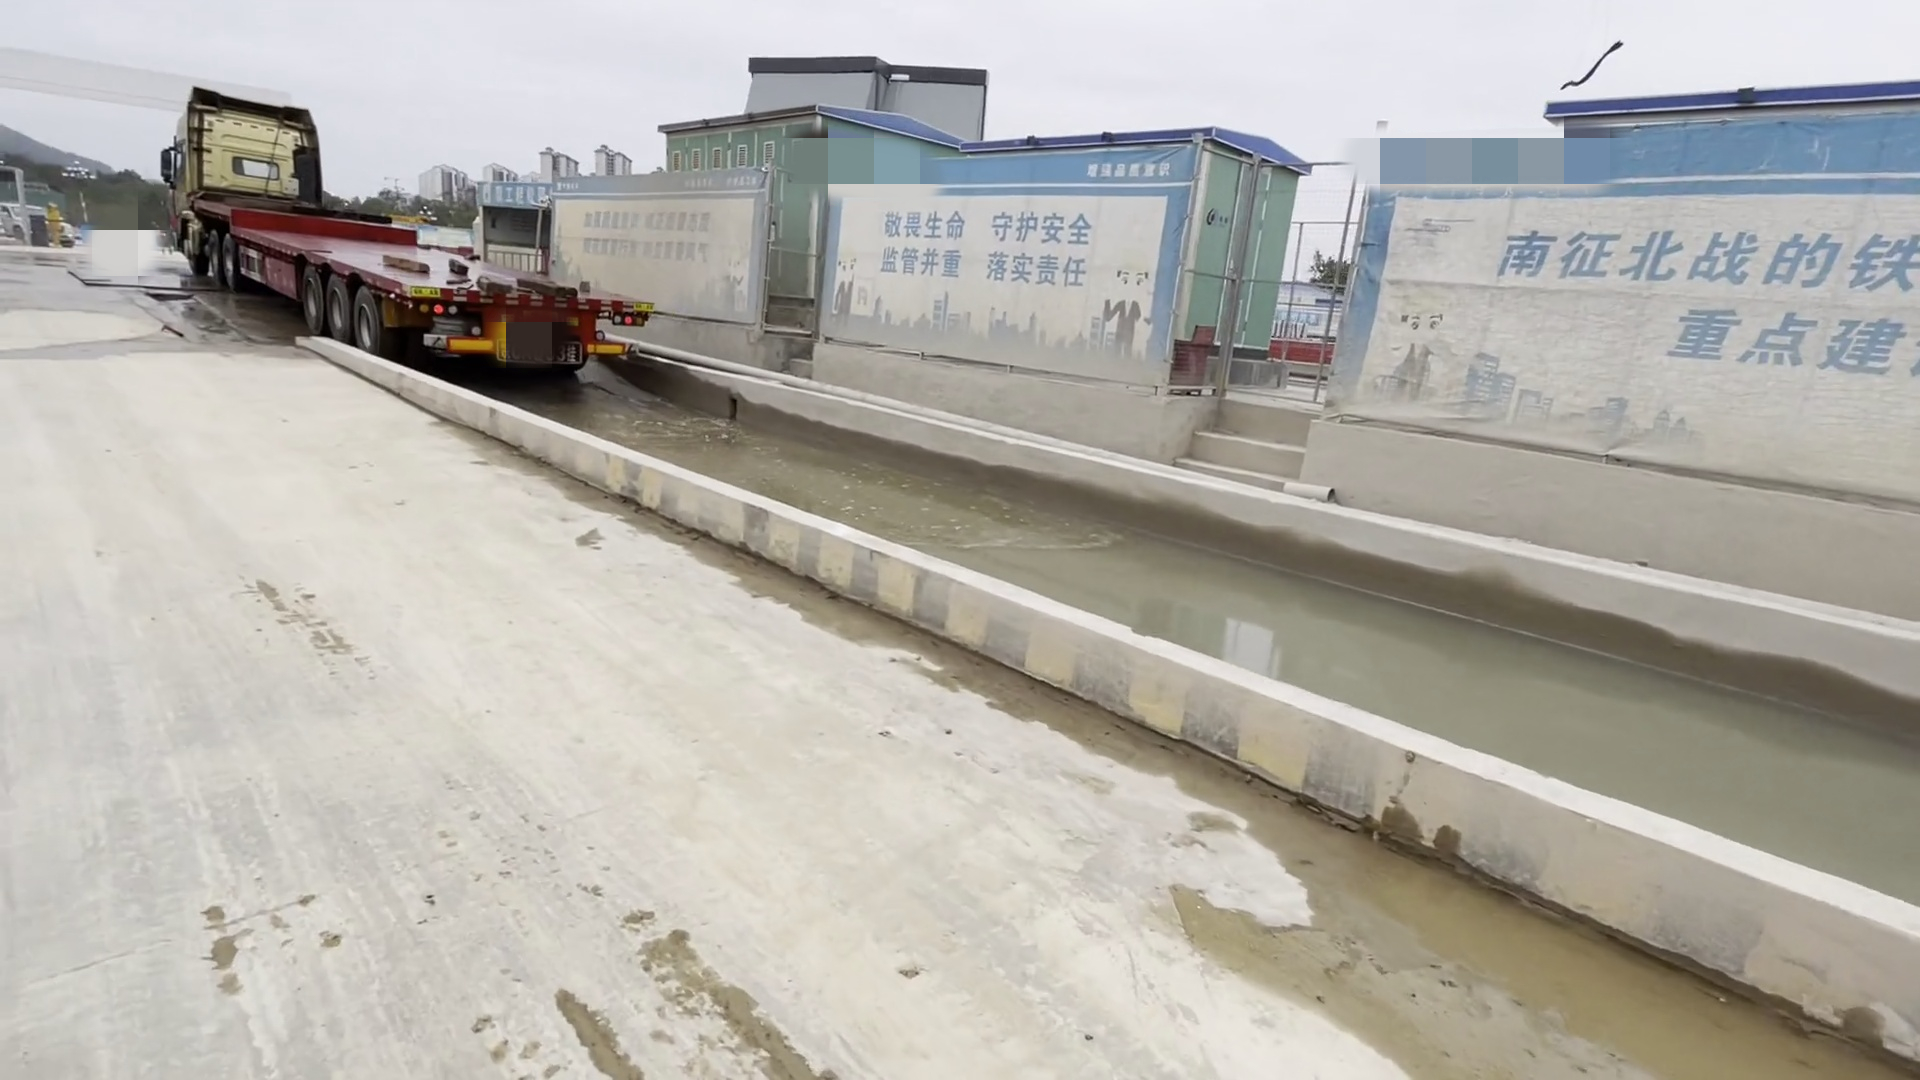slogan: (1358, 181, 1920, 456), (833, 131, 1168, 323), (527, 190, 765, 291)
